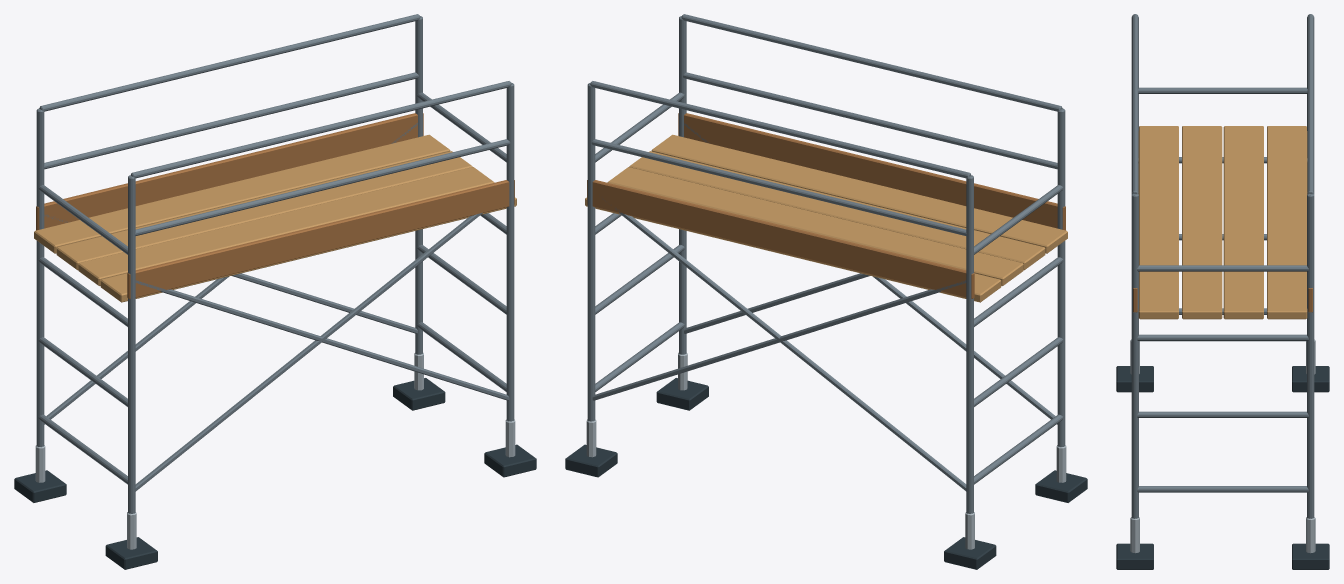
The model's file is b07_mason_frame_scaffold_bay.glb.
3 views of the same model, side by side, from view 1: azimuth 30°, elevation 25°; view 2: azimuth 150°, elevation 25°; view 3: azimuth 270°, elevation 25° (orthographic). The views are drawn at different scales.
Visible parts, largest first — view 1: b07_mason_frame_scaffold_bay; view 2: b07_mason_frame_scaffold_bay; view 3: b07_mason_frame_scaffold_bay.
Boxes of the visible parts, left/top/right/bottom form: b07_mason_frame_scaffold_bay: left=14, top=14, right=536, bottom=569; b07_mason_frame_scaffold_bay: left=565, top=14, right=1087, bottom=569; b07_mason_frame_scaffold_bay: left=1116, top=14, right=1329, bottom=569.
Bounding box in the file's own units: 3.29 × 2.94 × 1.53.
